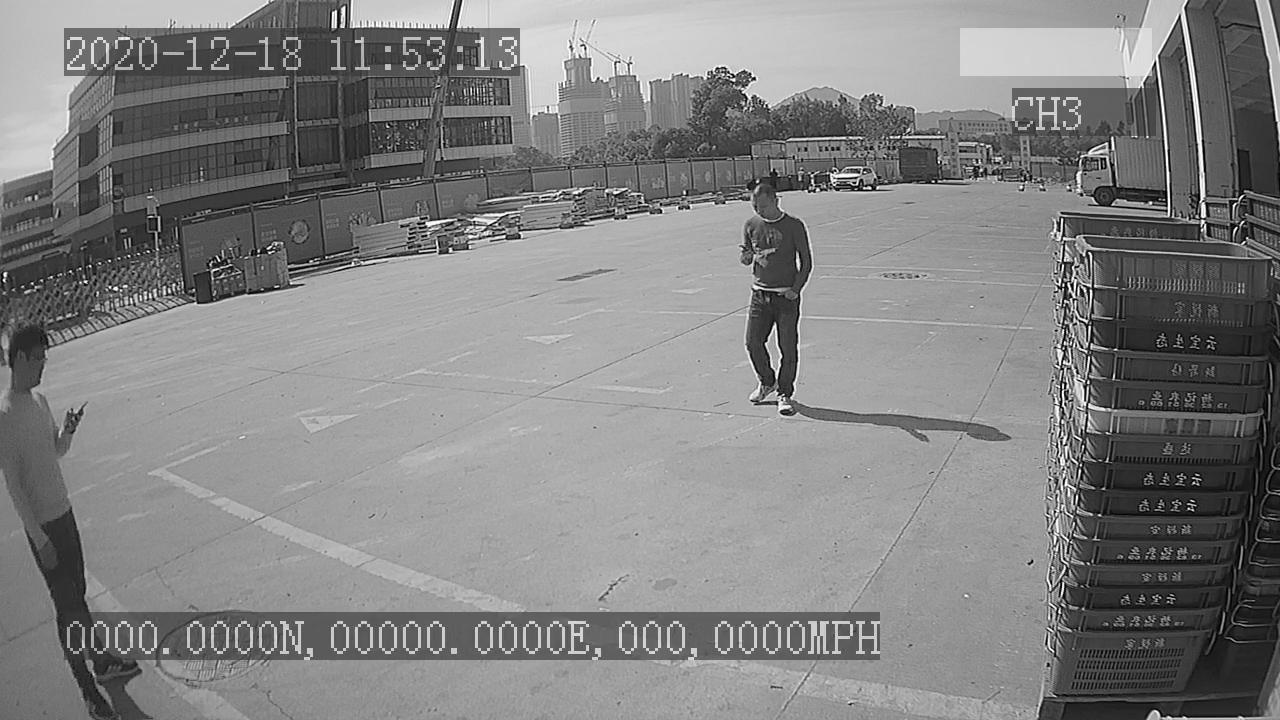person: (718, 176, 820, 419)
